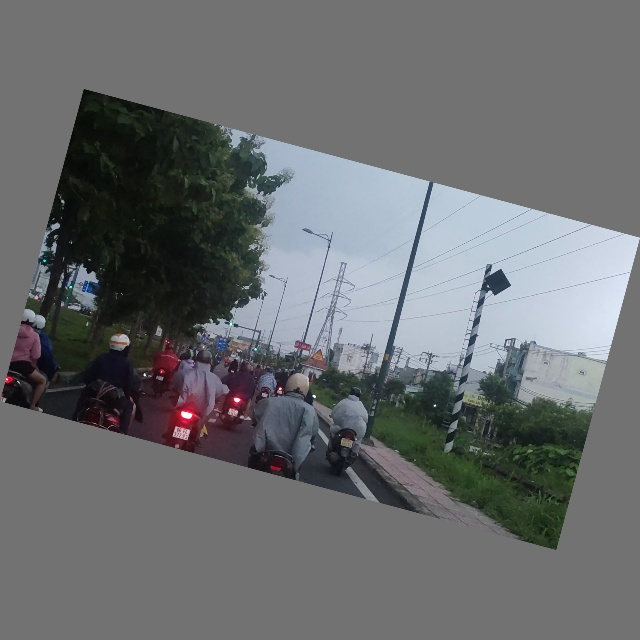W.210: (311, 348, 327, 364)
